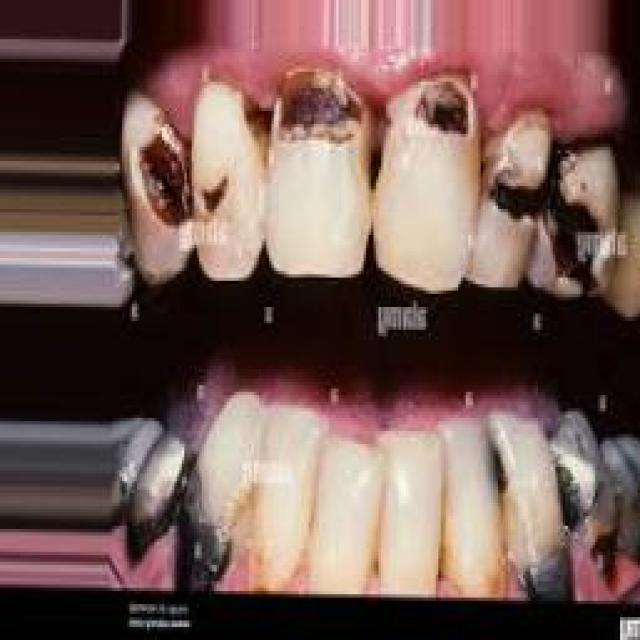caries: (269, 58, 371, 205), (536, 146, 620, 302), (124, 100, 194, 283), (385, 62, 480, 178), (479, 108, 545, 250), (192, 146, 256, 242), (467, 422, 517, 517), (228, 87, 279, 170), (582, 510, 631, 592)
